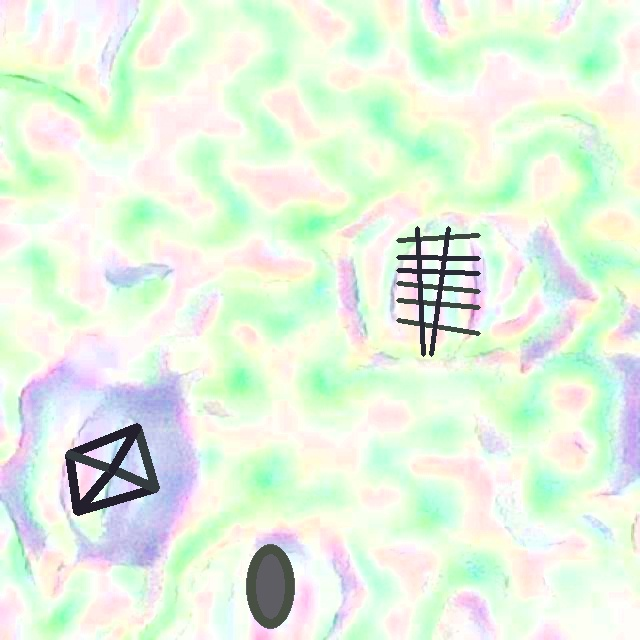open: (397, 227, 480, 355), (65, 423, 159, 515), (246, 545, 294, 628)
